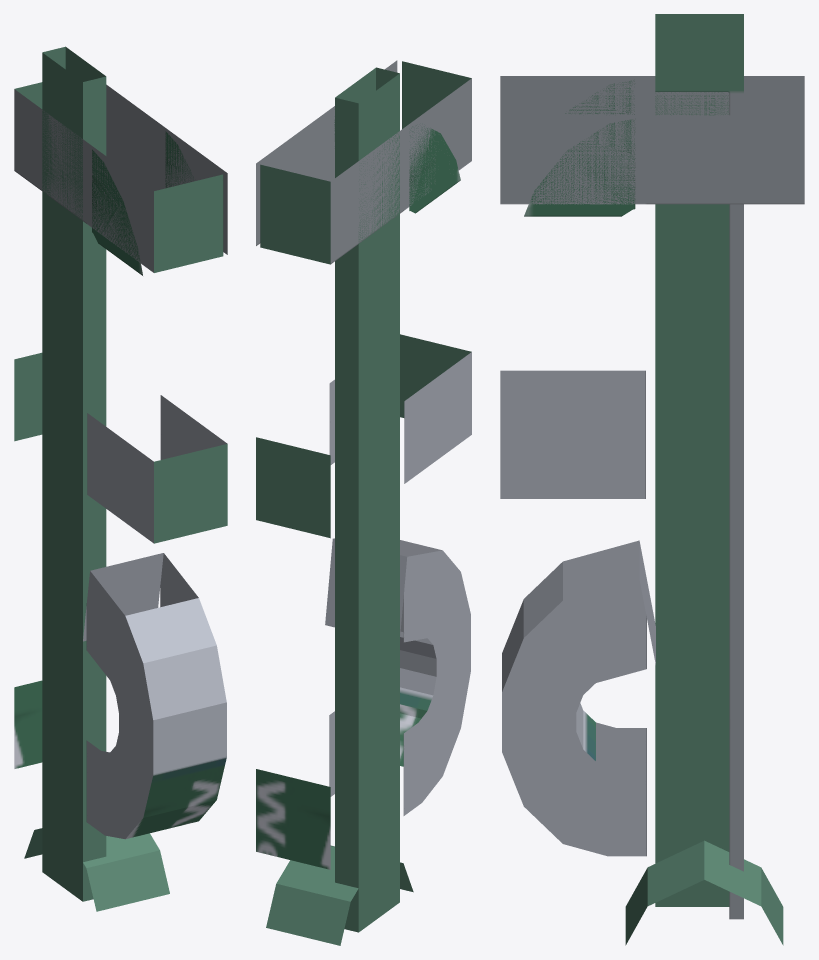
Rendered from section-1.obj.
3 renders of one model, left to right at view 1: azimuth 30°, elevation 25°; view 2: azimuth 150°, elevation 25°; view 3: azimuth 270°, elevation 25°, orthographic. The views are drawn at different scales.
Bounding box in the file's own units: 0.094 × 1 × 0.3091.
